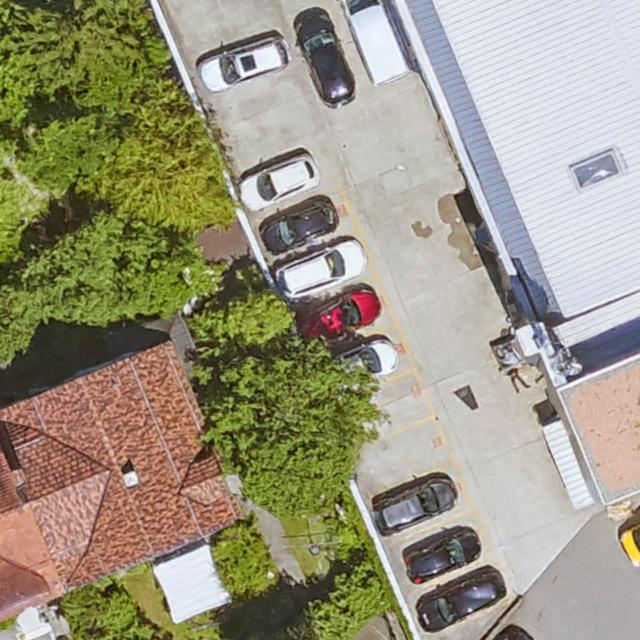tree: (203, 338, 377, 517), (102, 93, 231, 235), (22, 213, 130, 329), (57, 2, 173, 107), (100, 226, 212, 317), (0, 0, 70, 112), (21, 121, 117, 194), (203, 286, 298, 356), (204, 517, 278, 597), (0, 125, 39, 270), (54, 585, 143, 628), (0, 277, 41, 364), (332, 569, 393, 617), (289, 603, 356, 640), (56, 624, 156, 640)
